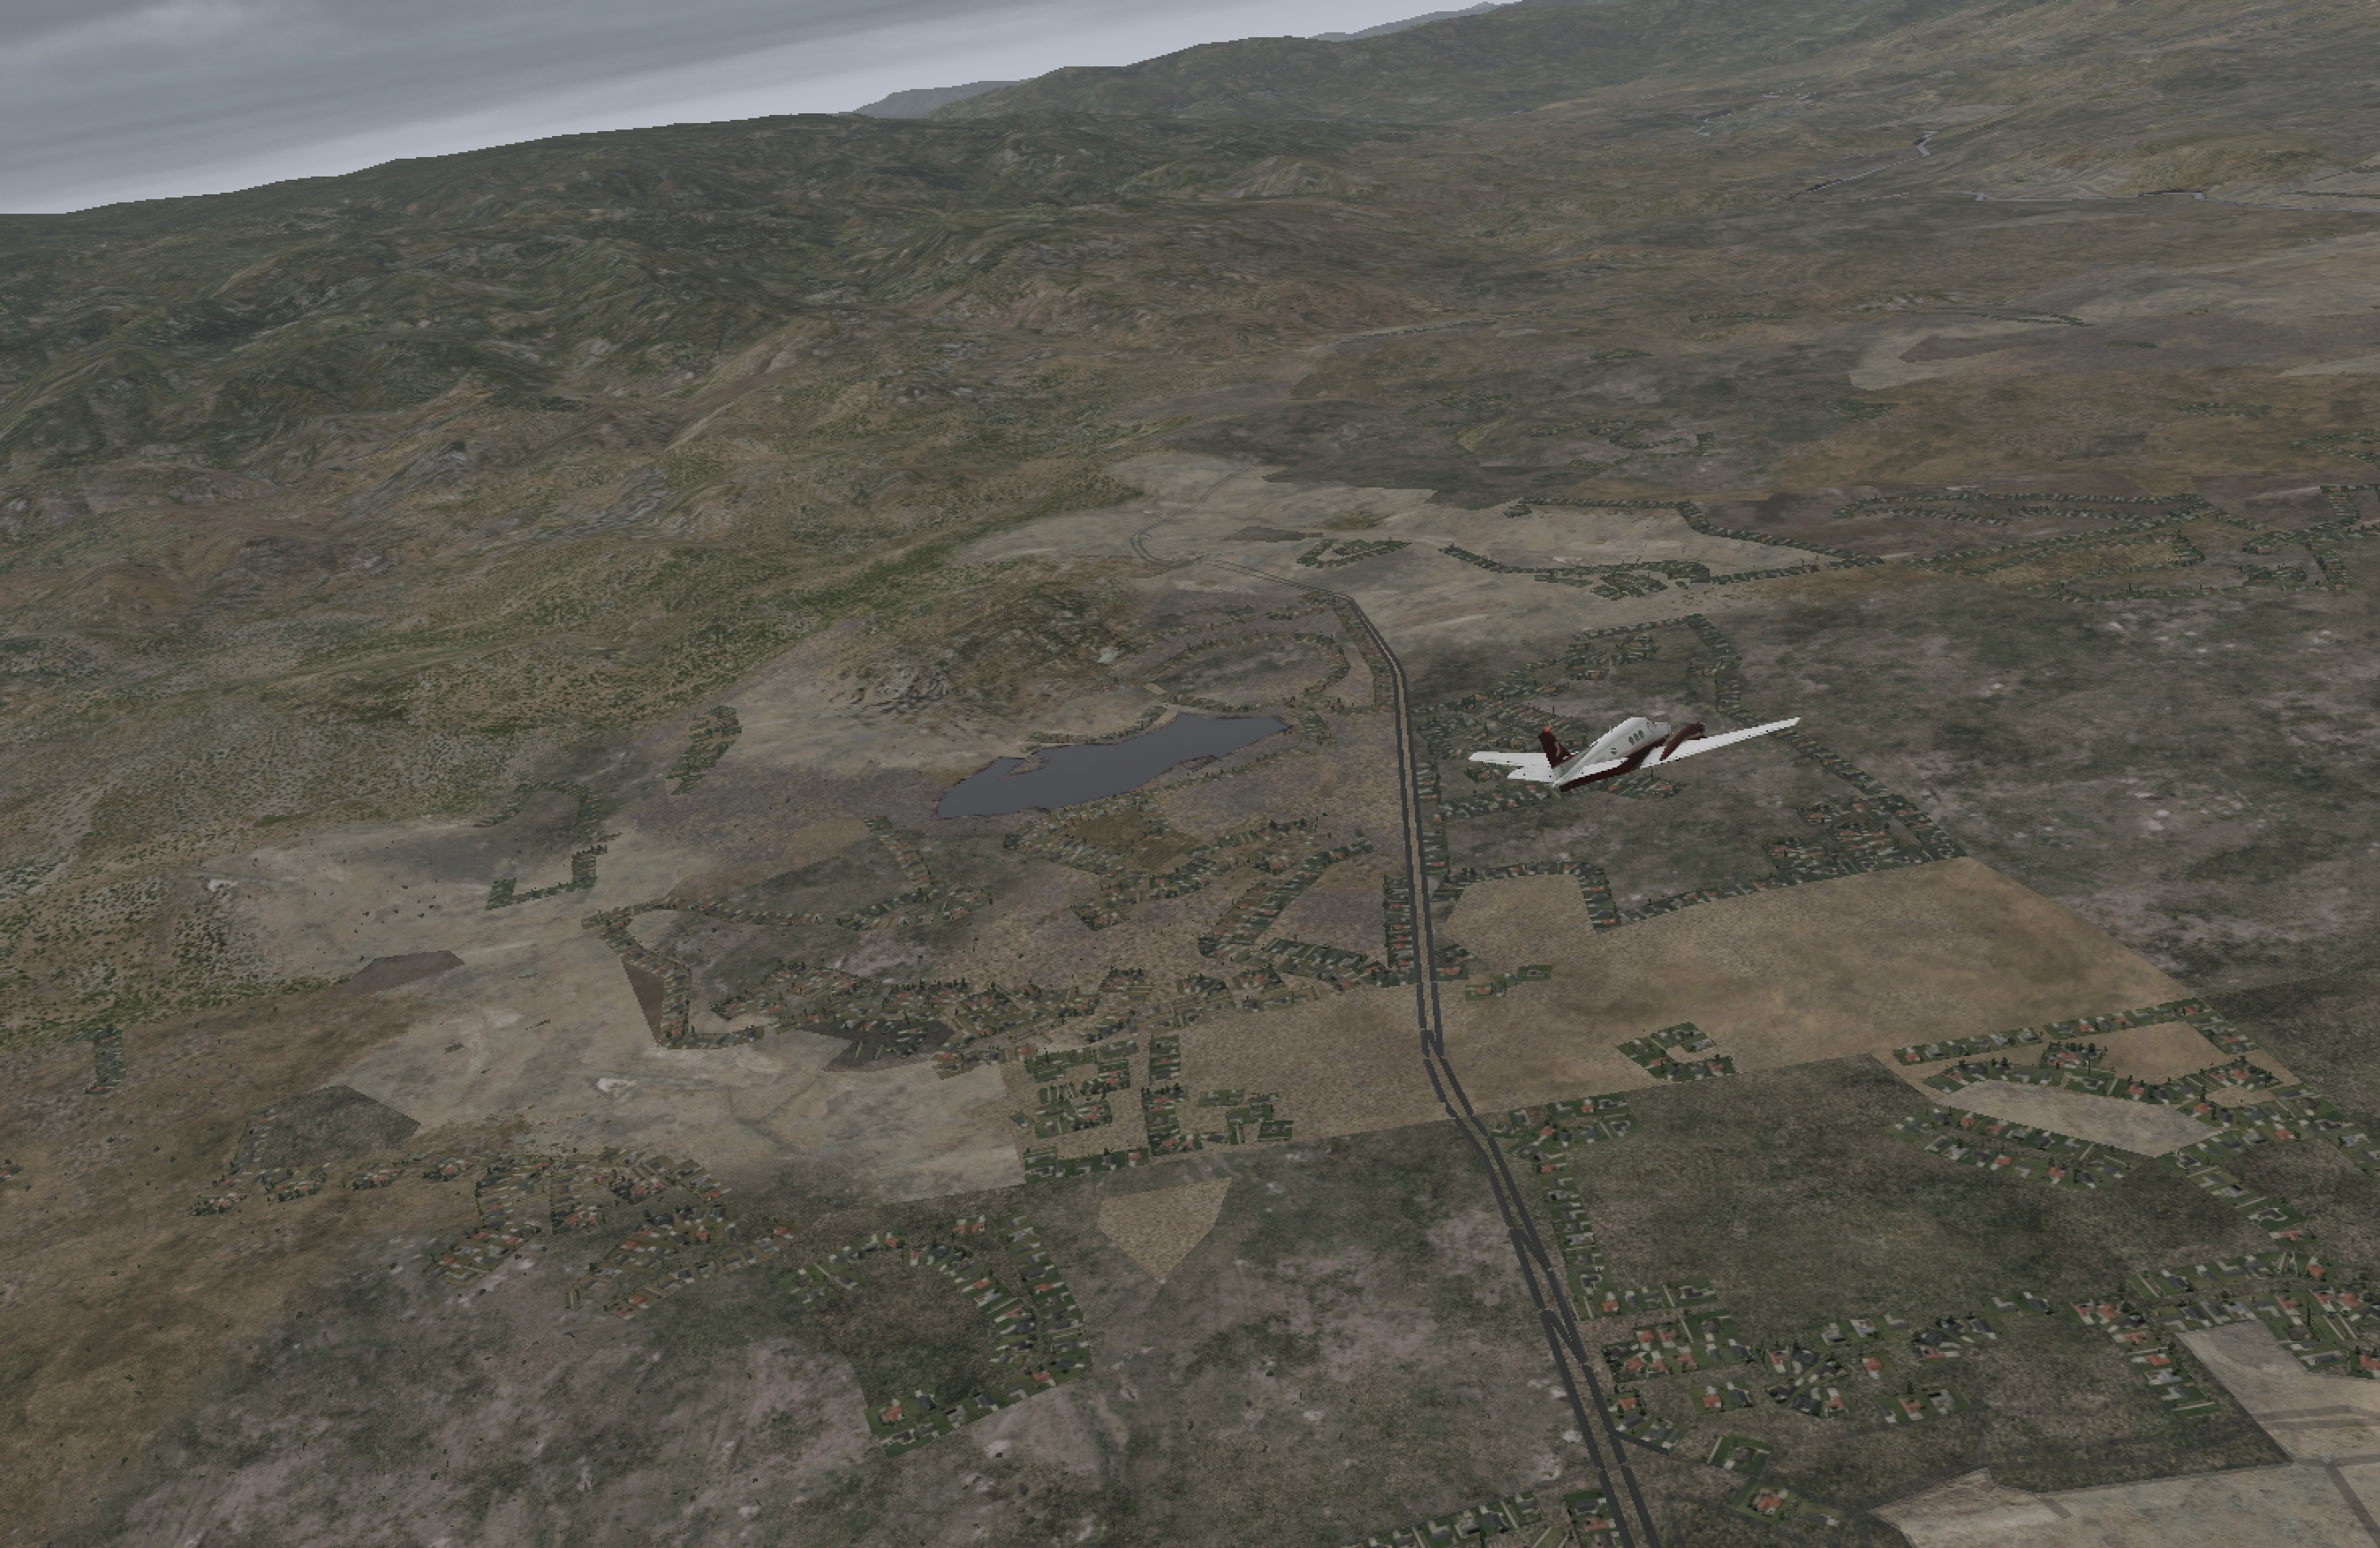aircraft: (1455, 691, 1816, 826)
